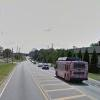Bus: (53, 55, 93, 85)
